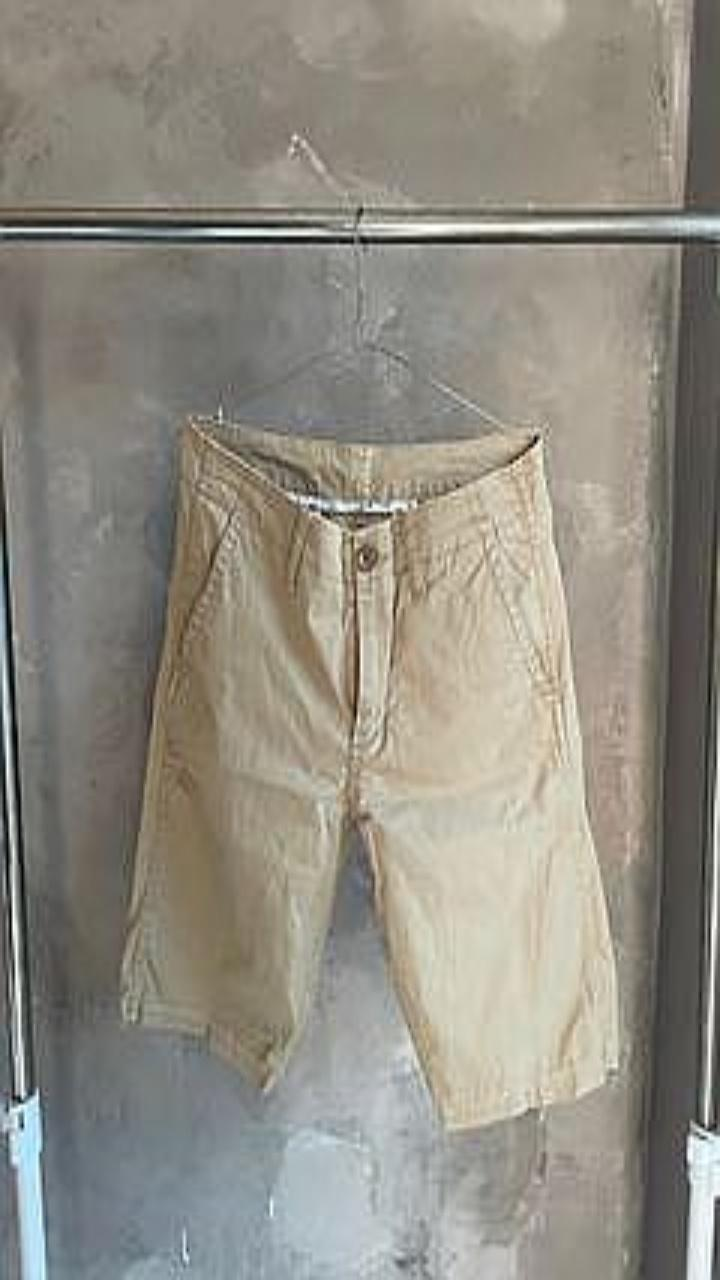Shorts: (121, 417, 617, 1127)
